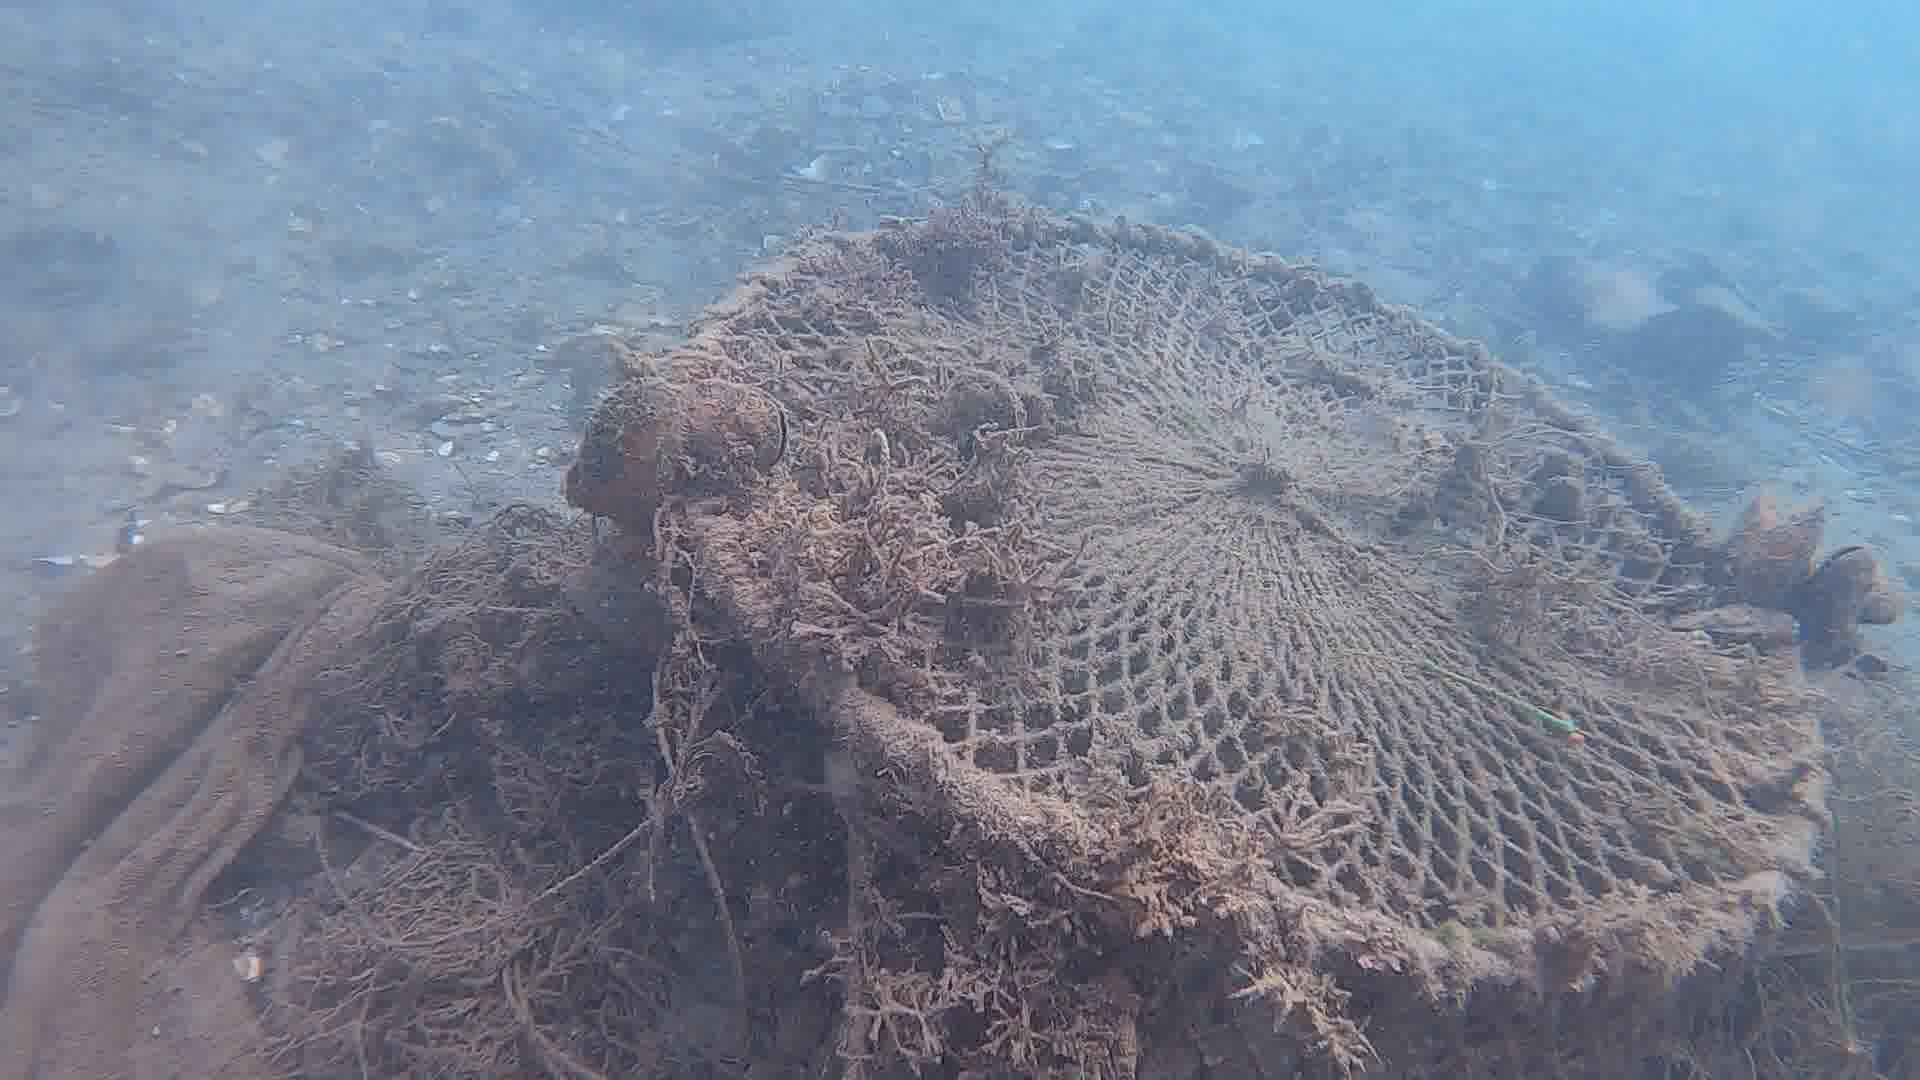circular fish trap: (662, 218, 1836, 1080)
